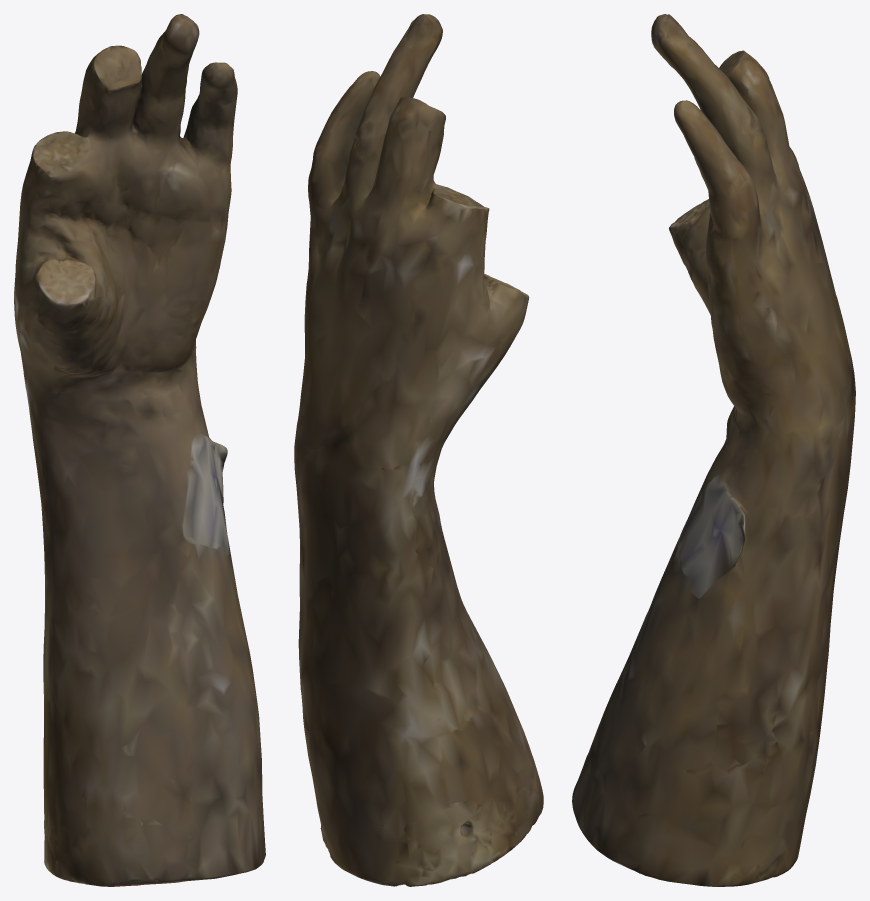
The model's file is cast-hand.01918606.glb.
3 views of the same model, side by side, from view 1: azimuth 30°, elevation 25°; view 2: azimuth 150°, elevation 25°; view 3: azimuth 270°, elevation 25° (orthographic). The views are drawn at different scales.
Visible parts, largest first — view 1: body; view 2: body; view 3: body.
Boxes of the visible parts, x1,y1,x2,y2 form: body: (14, 14, 265, 886); body: (294, 14, 543, 886); body: (572, 14, 855, 886).
Size of what is drawn, in the model's own units: 0.2537 by 0.9996 by 0.3042.
